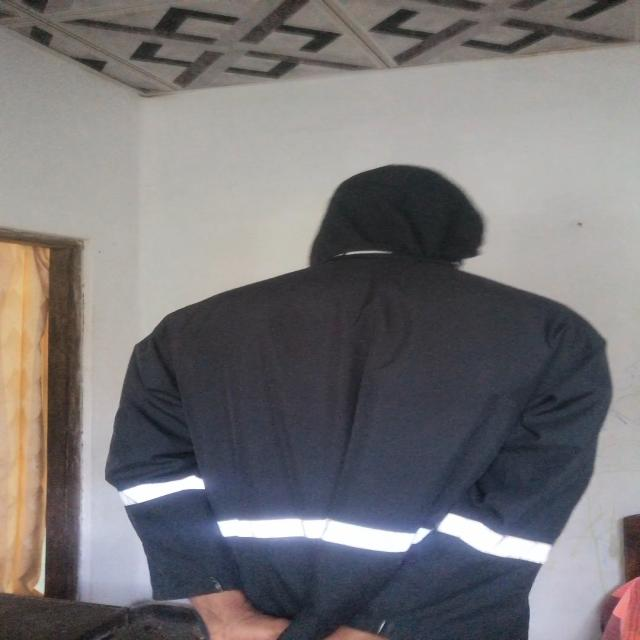Jacket_Wearer: (100, 166, 590, 640)
